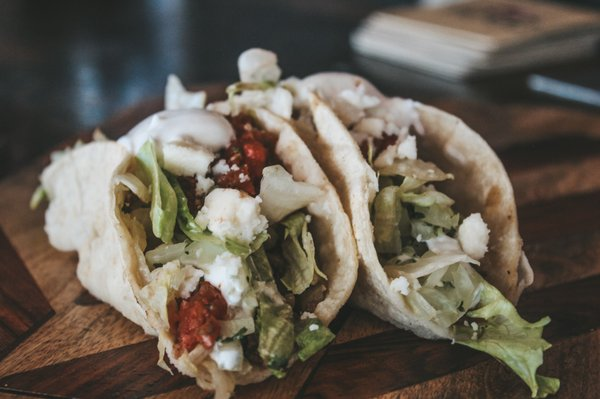soup: (32, 68, 371, 394)
